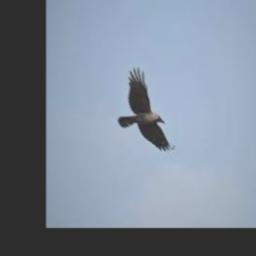Crow: (118, 67, 170, 151)
